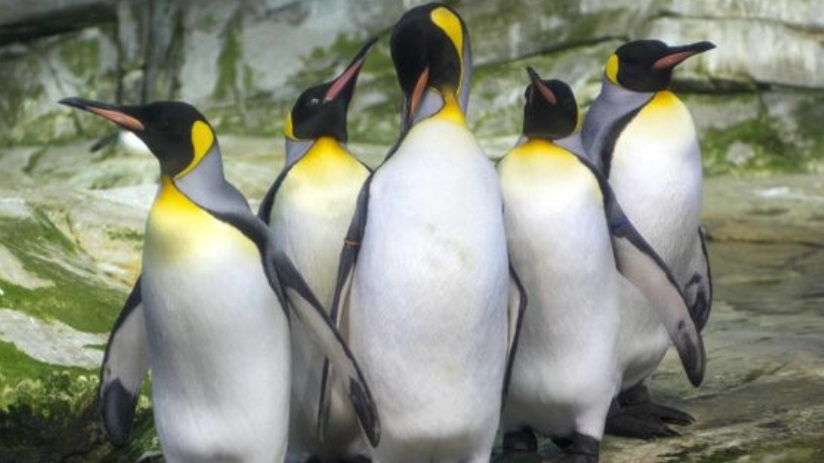penguin: (53, 94, 393, 463), (317, 1, 532, 463), (481, 62, 716, 463), (233, 31, 415, 463), (575, 37, 720, 438)
